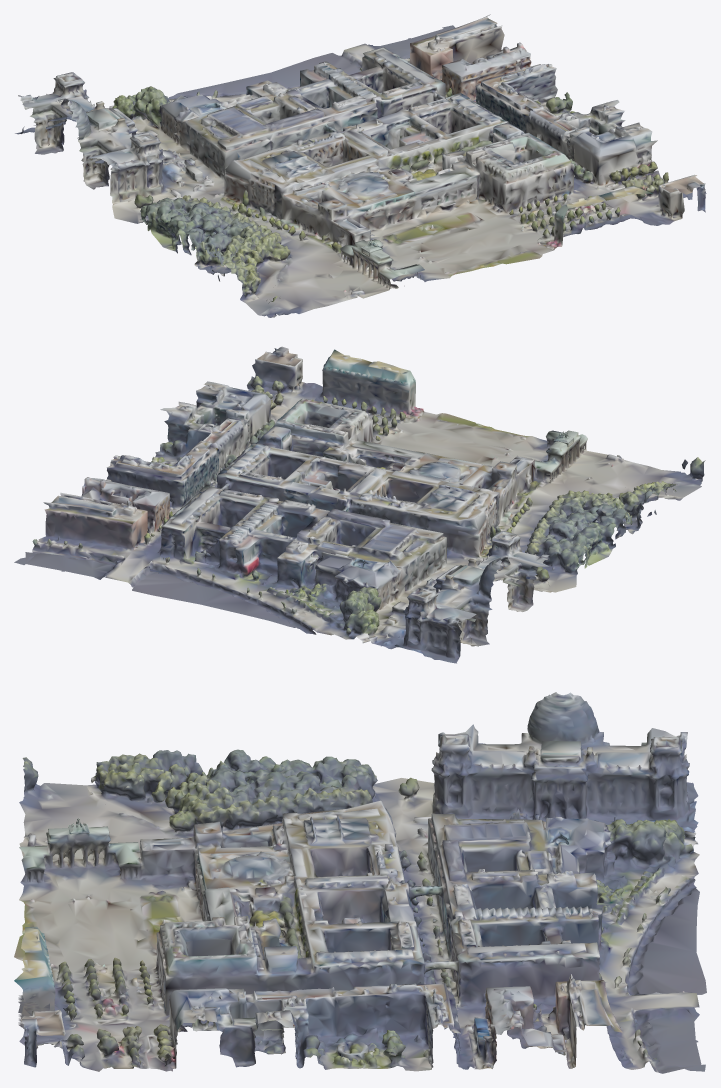
The model's file is tile-3898_58196.glb.
3 renders of one model, top to bottom at view 1: azimuth 30°, elevation 25°; view 2: azimuth 150°, elevation 25°; view 3: azimuth 270°, elevation 25°, orthographic. The views are drawn at different scales.
Visible parts, largest first — view 1: world; view 2: world; view 3: world.
Boxes of the visible parts, bbox=[...] form: world: bbox=[15, 14, 706, 317]; world: bbox=[14, 346, 705, 663]; world: bbox=[14, 692, 706, 1073].
Size of the model in its own units: 379 by 62.99 by 373.
